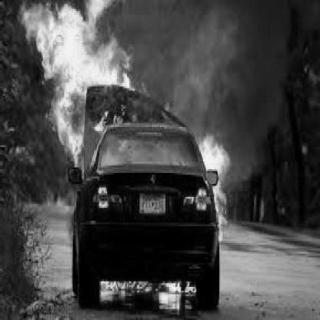Fire: (17, 0, 136, 186), (192, 123, 245, 233), (94, 277, 198, 311)
Smoke: (142, 1, 298, 95)
other: (188, 185, 210, 217)
